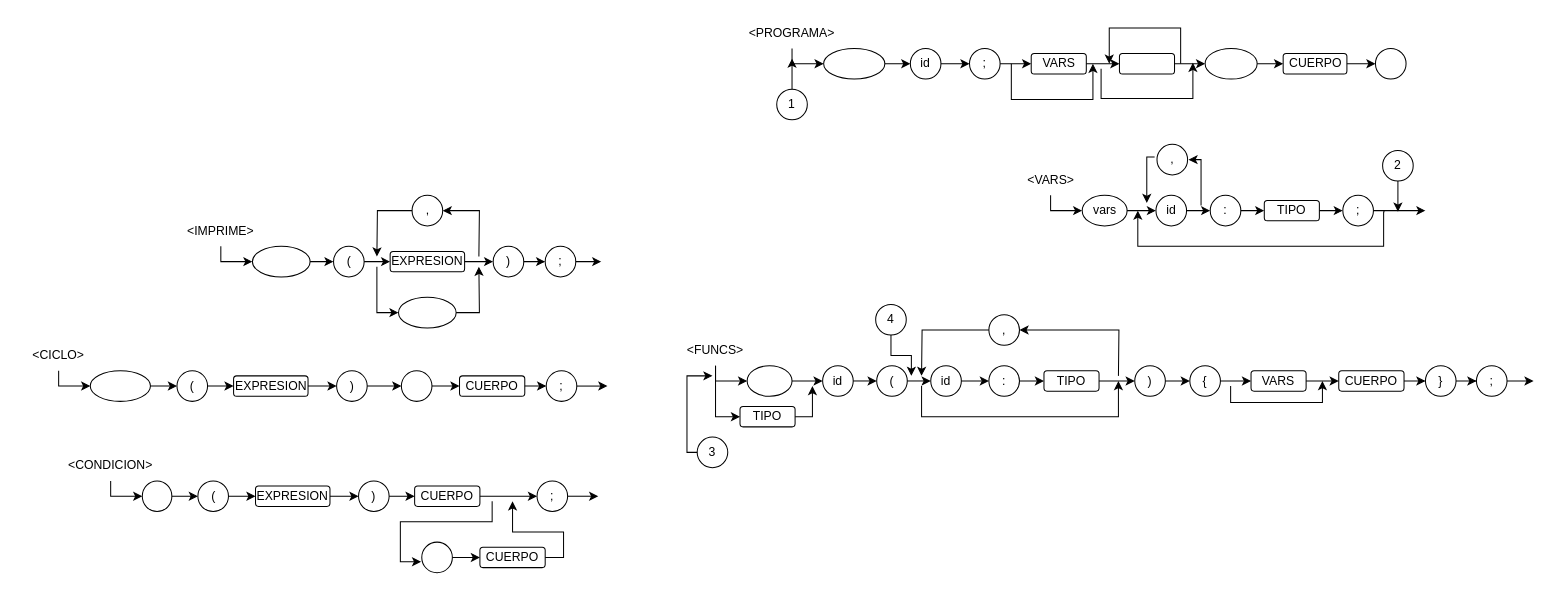
The diagram is 1560 pixels wide and 591 high, and some of its shapes have lost their labels. The shapes that lost their labels are listed below. From the top down, each one's centre as x and y in pixels, then its label:
At (854,63): "programa".
At (1146,63): "FUNCS".
At (1230,63): "inicio".
At (1390,63): "fin".
At (280,261): "escribe".
At (426,312): "letrero".
At (119,385): "mientras".
At (416,385): "haz".
At (769,380): "nula".
At (156,496): "si".
At (436,557): "sino".
